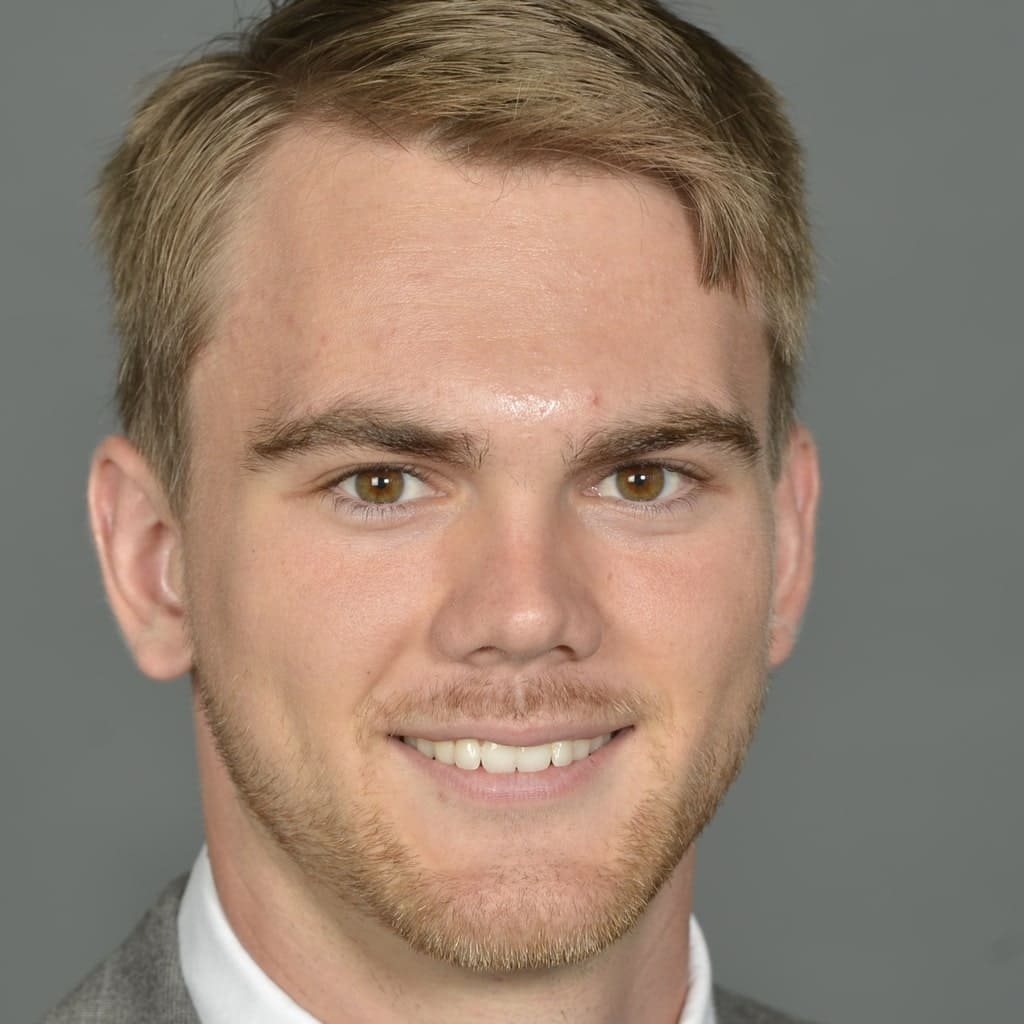without_mask: (227, 257, 754, 883)
